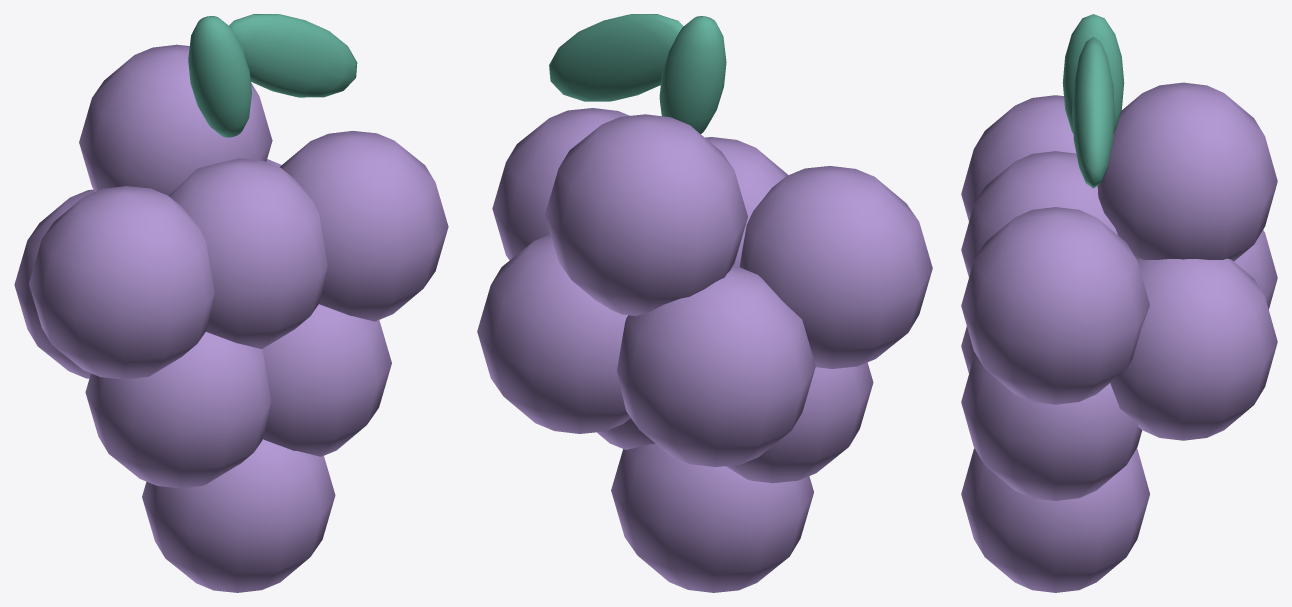
File: grape.glb
The picture shows the model from 3 angles, left to right: view 1: azimuth 30°, elevation 25°; view 2: azimuth 150°, elevation 25°; view 3: azimuth 270°, elevation 25°; orthographic projection. The views are drawn at different scales.
Visible parts, largest first — view 1: grape; view 2: grape; view 3: grape.
Boxes of the visible parts, <box> form: grape: <box>14,14,448,592</box>; grape: <box>477,14,932,592</box>; grape: <box>961,14,1277,592</box>.
Size of the model in its own units: 0.98 by 1.32 by 0.67.
